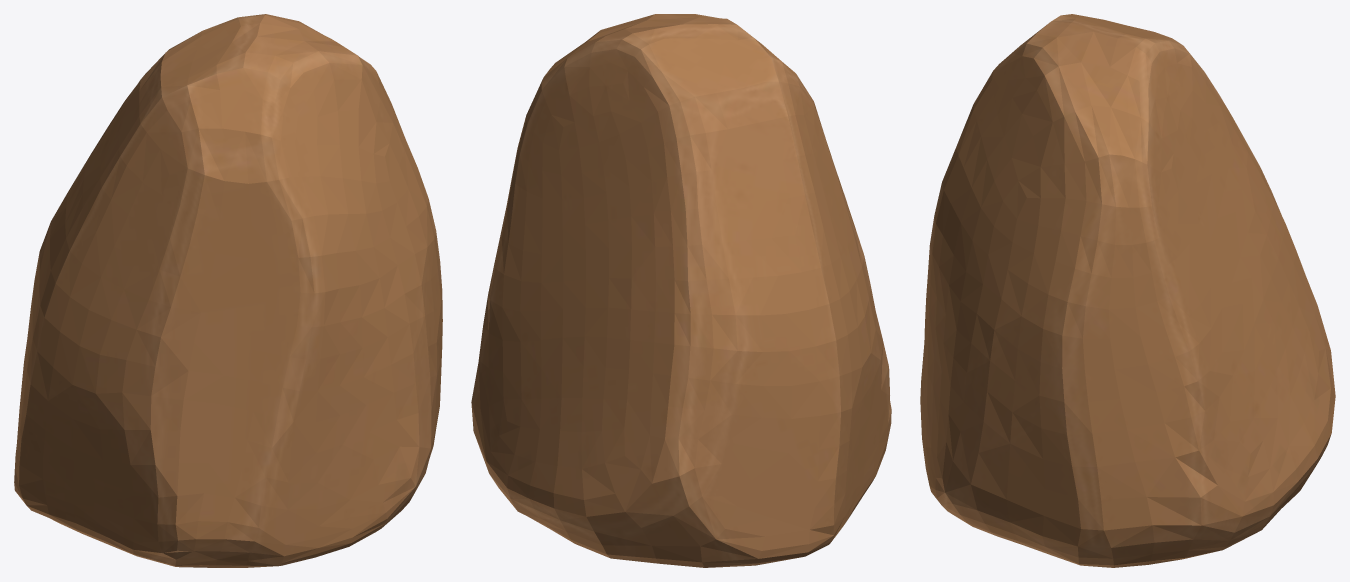
The model's file is Climb   Rock.fbx.
The picture shows the model from 3 angles, left to right: view 1: azimuth 30°, elevation 25°; view 2: azimuth 150°, elevation 25°; view 3: azimuth 270°, elevation 25°; orthographic projection. The views are drawn at different scales.
Parts seen in each view (by area): view 1: defaultMaterial; view 2: defaultMaterial; view 3: defaultMaterial.
Boxes of the visible parts, <box> form: defaultMaterial: <box>14,14,442,567</box>; defaultMaterial: <box>471,14,891,567</box>; defaultMaterial: <box>920,14,1335,567</box>.
Bounding box in the file's own units: 2.04 × 2.38 × 1.93.
1 material, 1 textured.
